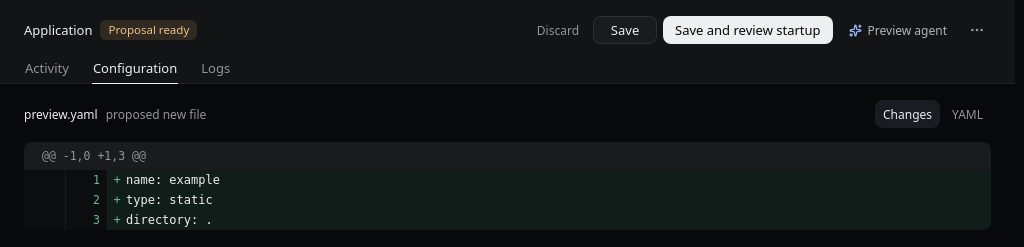
it: returns to first-time setup after discarding an unsaved proposal
Expected: the element named "Configuration changes" is shown, [24,142,991,230]
Click the button "Discard".
click(558, 30)  # box [529,16,587,44]
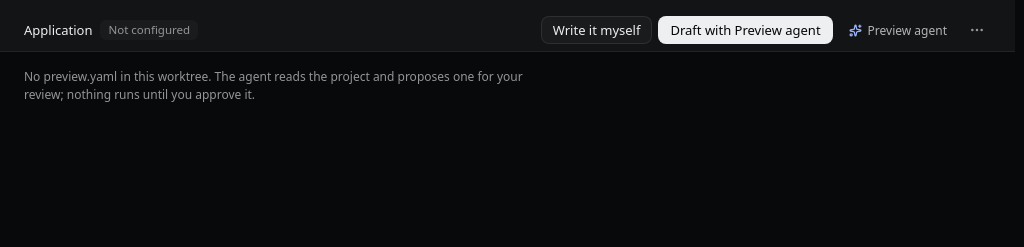
Expected: the button "Draft with Preview agent" is shown, [658,16,833,44]
Expected: the button "Save" is gone
